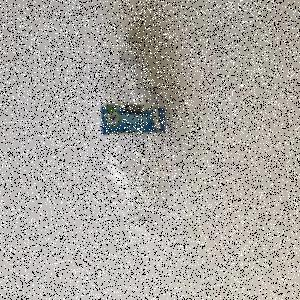Plastic-bottle: (101, 42, 174, 234)
